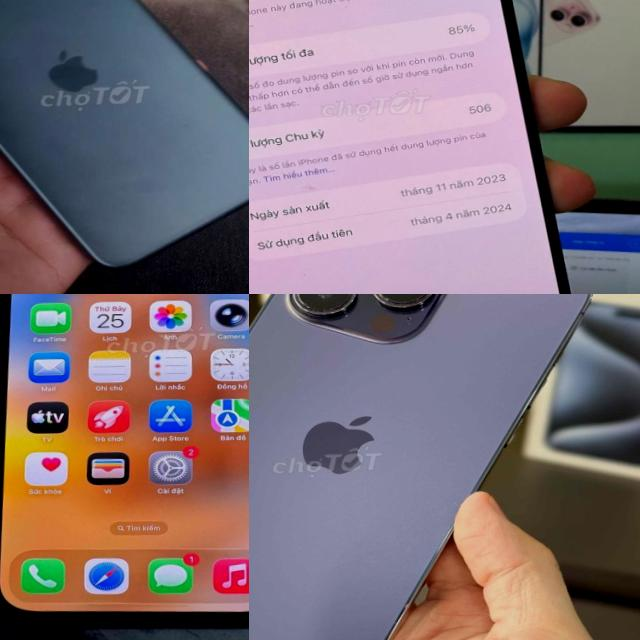gen_11: (0, 0, 249, 266)
gen_14: (249, 294, 593, 640), (0, 294, 249, 640)
gen_15: (249, 0, 589, 294)
